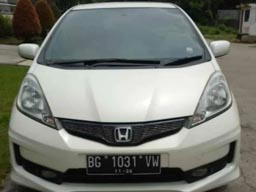plat: (85, 154, 159, 168)
